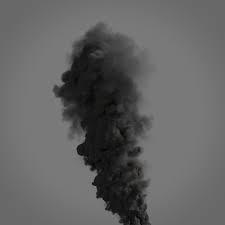smoke: (53, 20, 162, 225)
